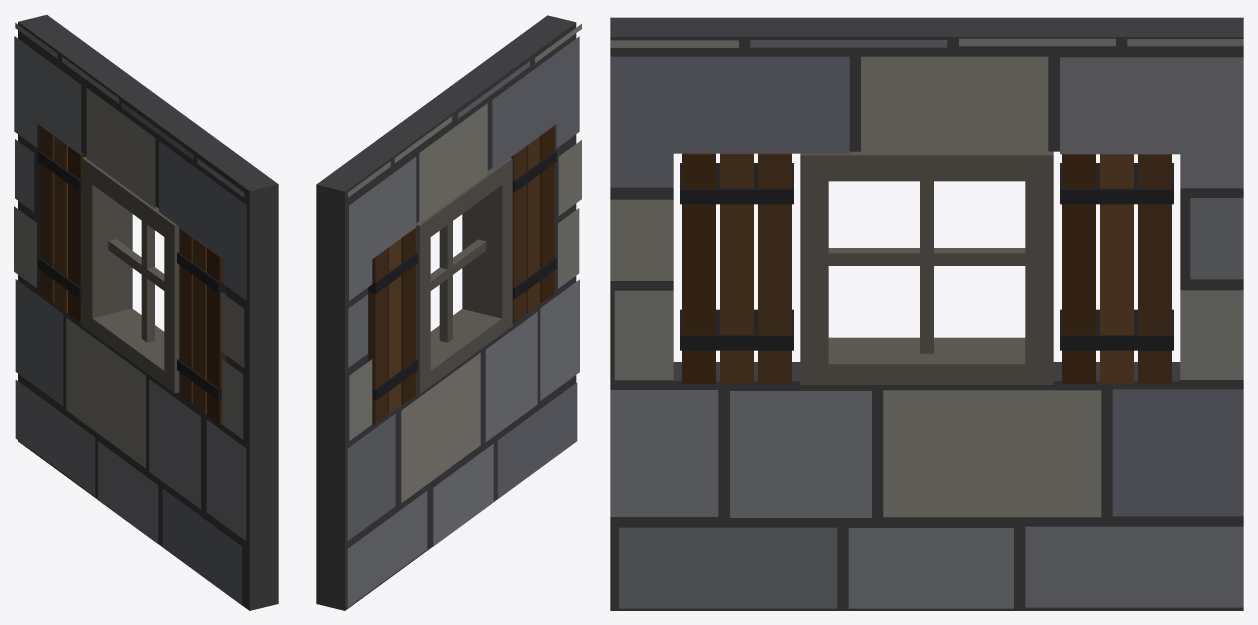
File: wall-stone-window-shutters.glb
3 renders of one model, left to right at view 1: azimuth 30°, elevation 25°; view 2: azimuth 150°, elevation 25°; view 3: azimuth 270°, elevation 25°, orthographic. The views are drawn at different scales.
Visible parts, largest first — view 1: wall-stone-window-shutters; view 2: wall-stone-window-shutters; view 3: wall-stone-window-shutters.
Part boxes in pixels (<box>): wall-stone-window-shutters: <box>14,15,278,610</box>; wall-stone-window-shutters: <box>316,15,581,610</box>; wall-stone-window-shutters: <box>610,17,1243,610</box>.
Size of the model in its own units: 0.1 by 1 by 1.
